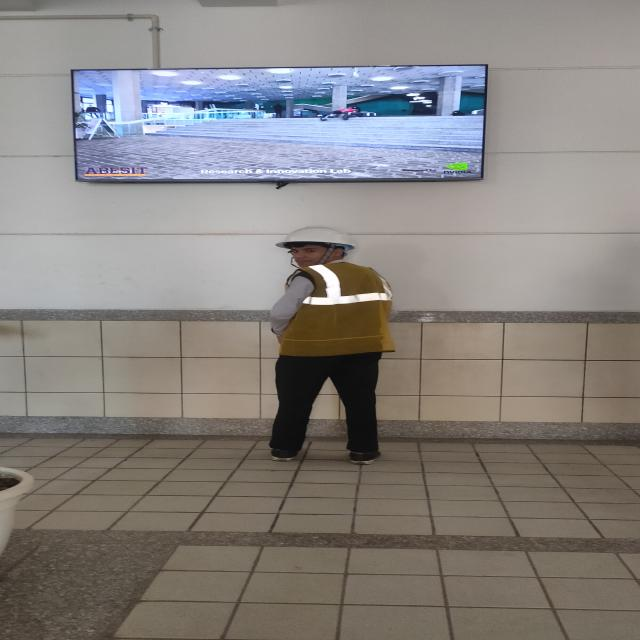safe: (276, 226, 396, 463)
